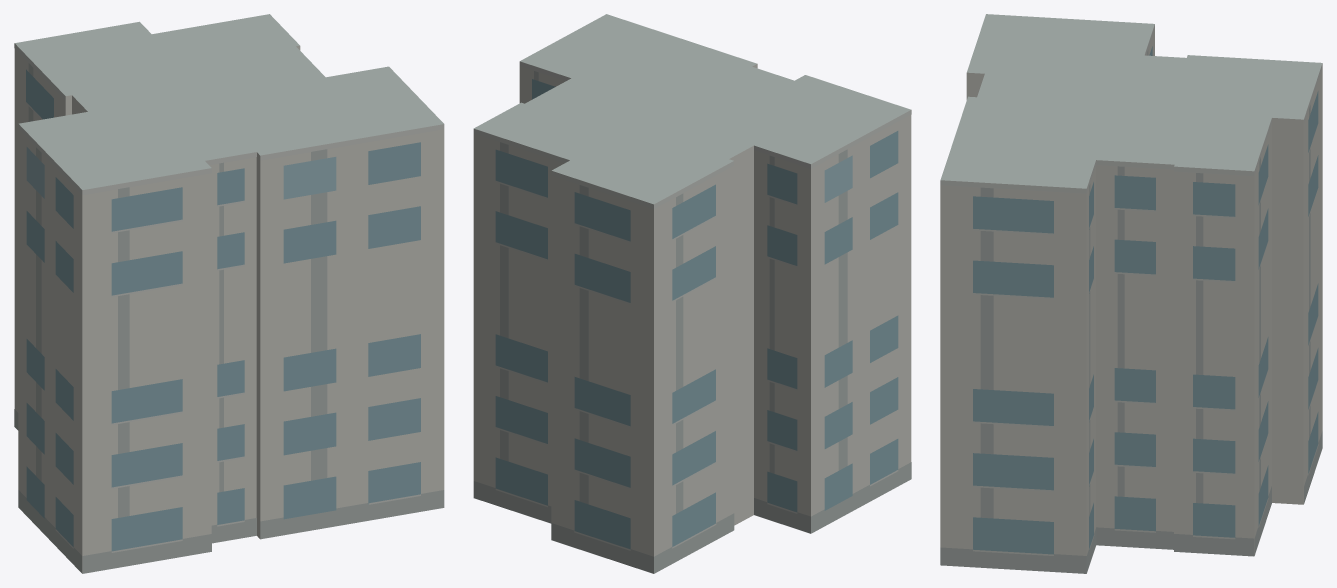
Rendered from survey-upis-32778990.glb.
3 views of the same model, side by side, from view 1: azimuth 30°, elevation 25°; view 2: azimuth 150°, elevation 25°; view 3: azimuth 270°, elevation 25° (orthographic). The views are drawn at different scales.
Parts seen in each view (by area): view 1: survey-upis-32778990.tmp; view 2: survey-upis-32778990.tmp; view 3: survey-upis-32778990.tmp.
Boxes of the visible parts, x1,y1,x2,y2 form: survey-upis-32778990.tmp: [14, 14, 444, 573]; survey-upis-32778990.tmp: [473, 14, 911, 573]; survey-upis-32778990.tmp: [940, 14, 1322, 573].
Bounding box in the file's own units: 18.11 × 18.6 × 16.73.
